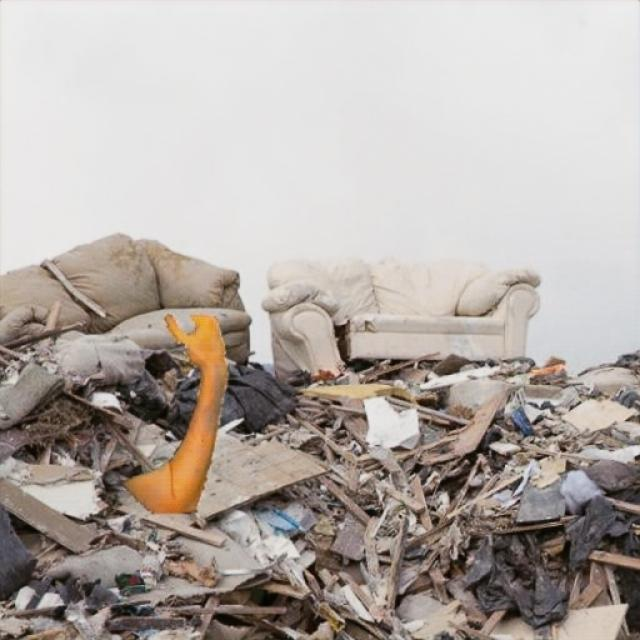Person in Rubble: (124, 314, 228, 512)
